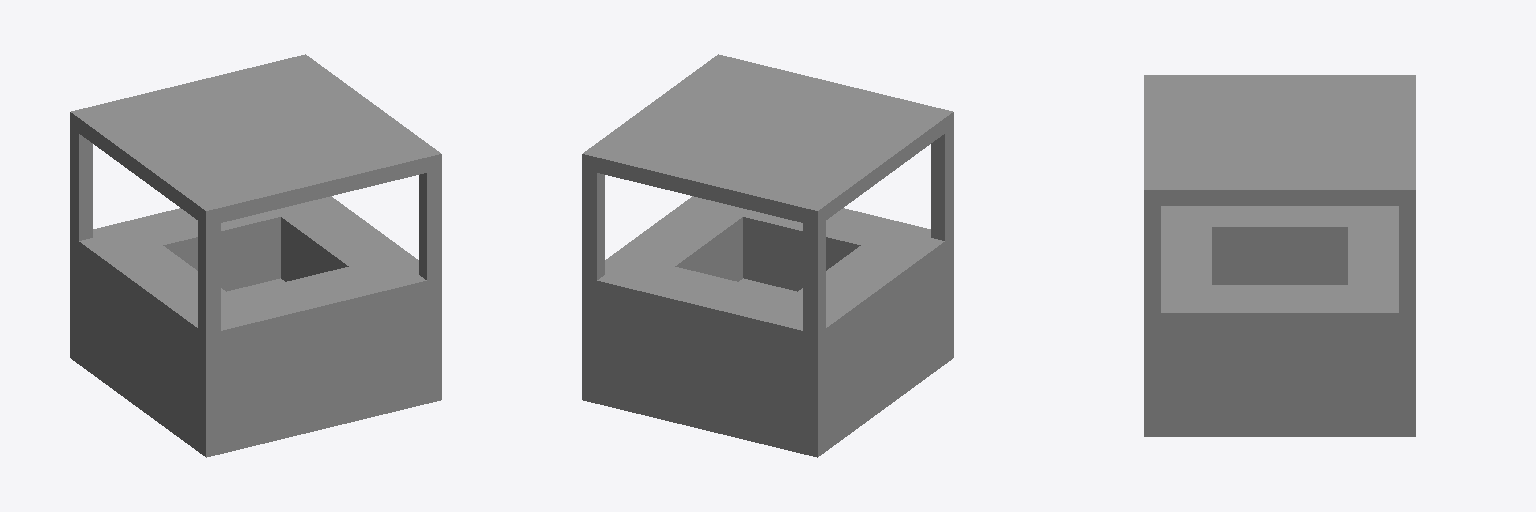
Rendered from oredrill.obj.
3 renders of one model, left to right at view 1: azimuth 30°, elevation 25°; view 2: azimuth 150°, elevation 25°; view 3: azimuth 270°, elevation 25°, orthographic.
Parts seen in each view (by area): view 1: Cube; view 2: Cube; view 3: Cube.
Boxes of the visible parts, x1=… form: Cube: x1=70, y1=54, x2=441, y2=457; Cube: x1=582, y1=54, x2=953, y2=457; Cube: x1=1144, y1=75, x2=1415, y2=436.
Bounding box in the file's own units: 1 × 1 × 1.